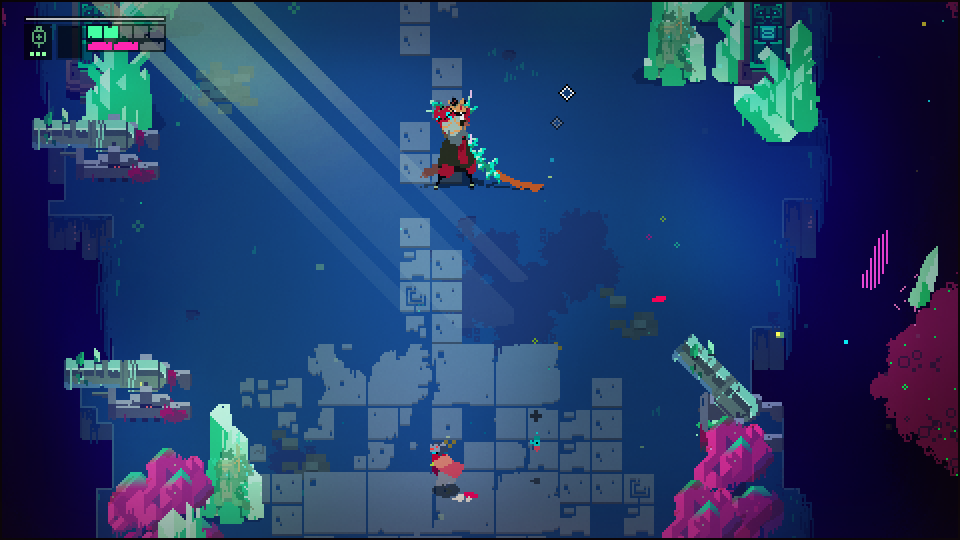hanged_man: (424, 97, 502, 190)
player: (426, 441, 466, 489)
